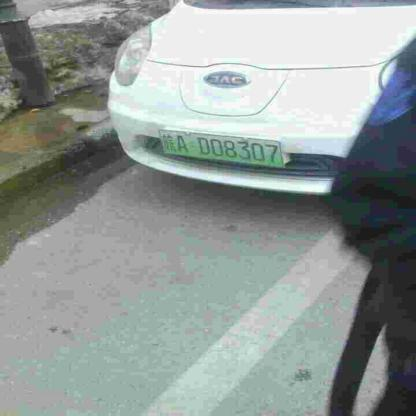lp: (157, 130, 284, 167)
